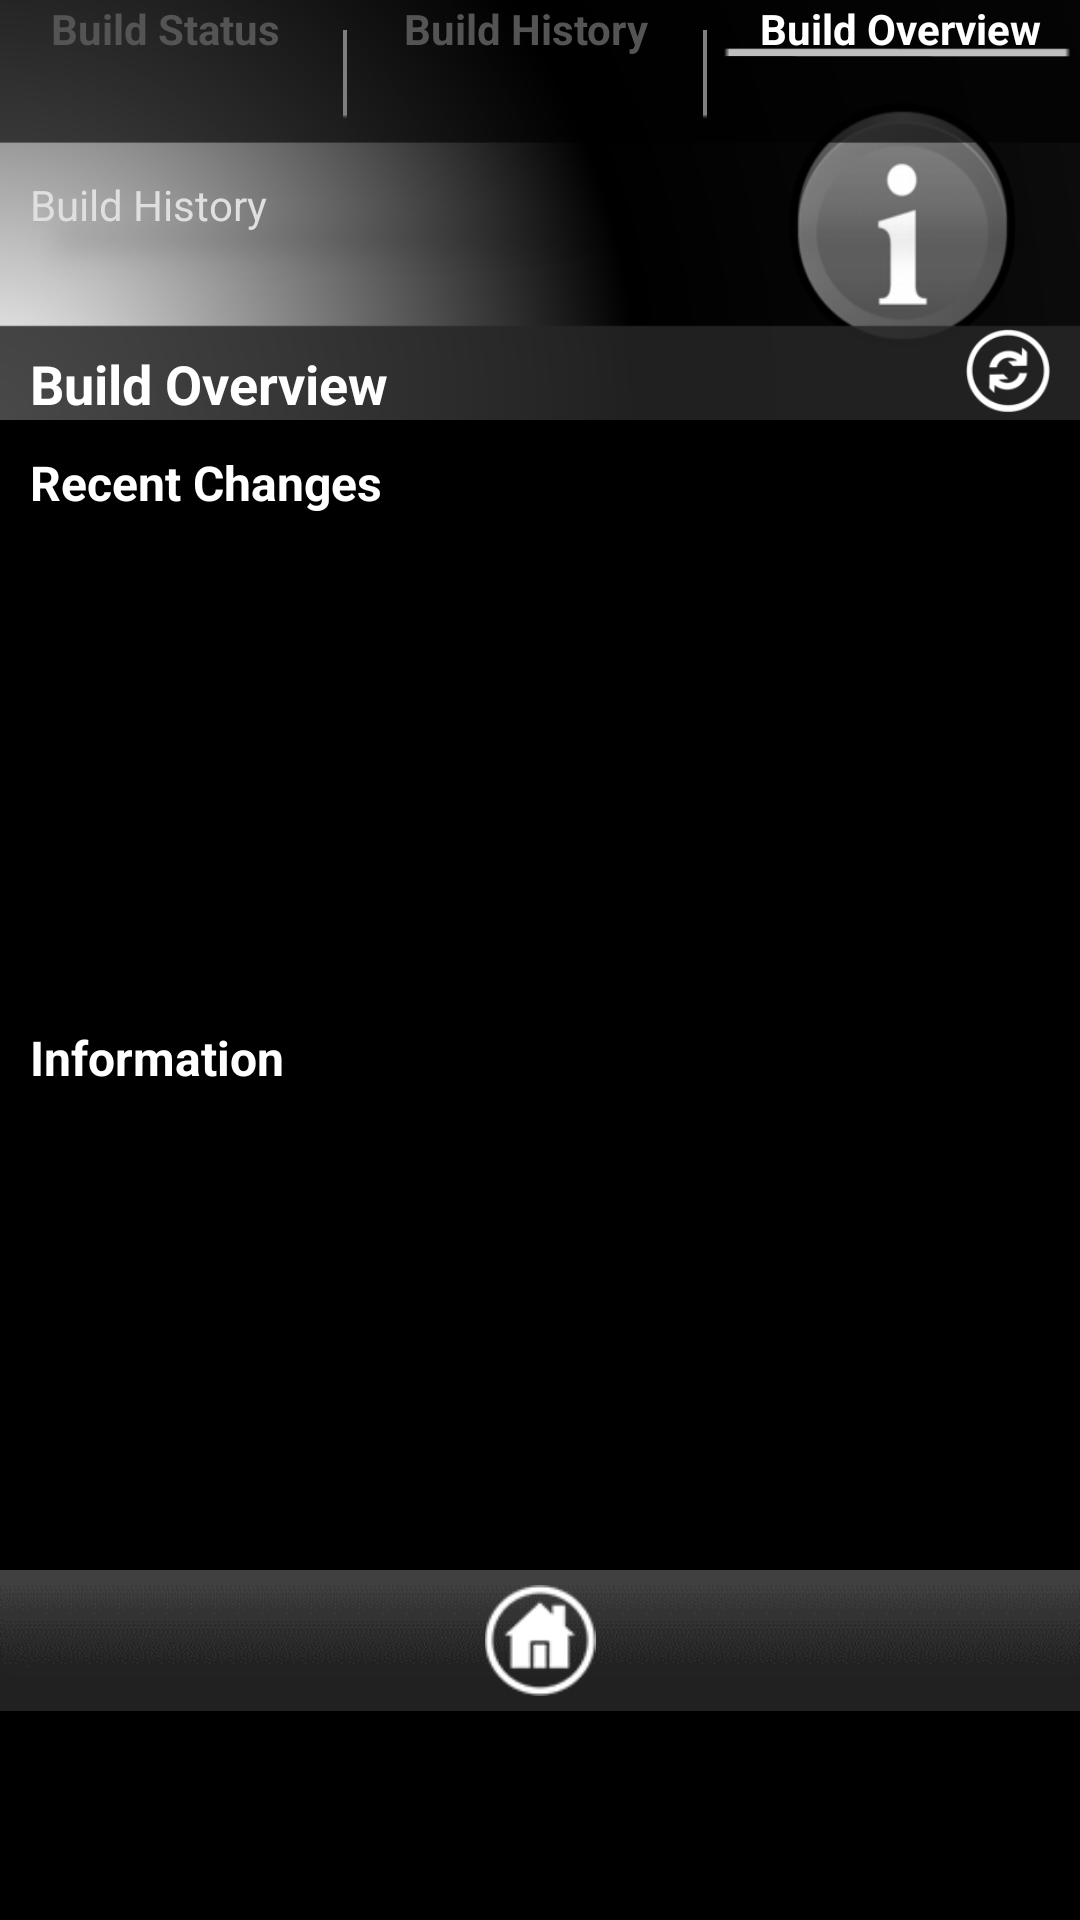

Where to tap for icons on this 1080*1920 app screen, as point (x, y):
homeicon: point (540, 1640)
